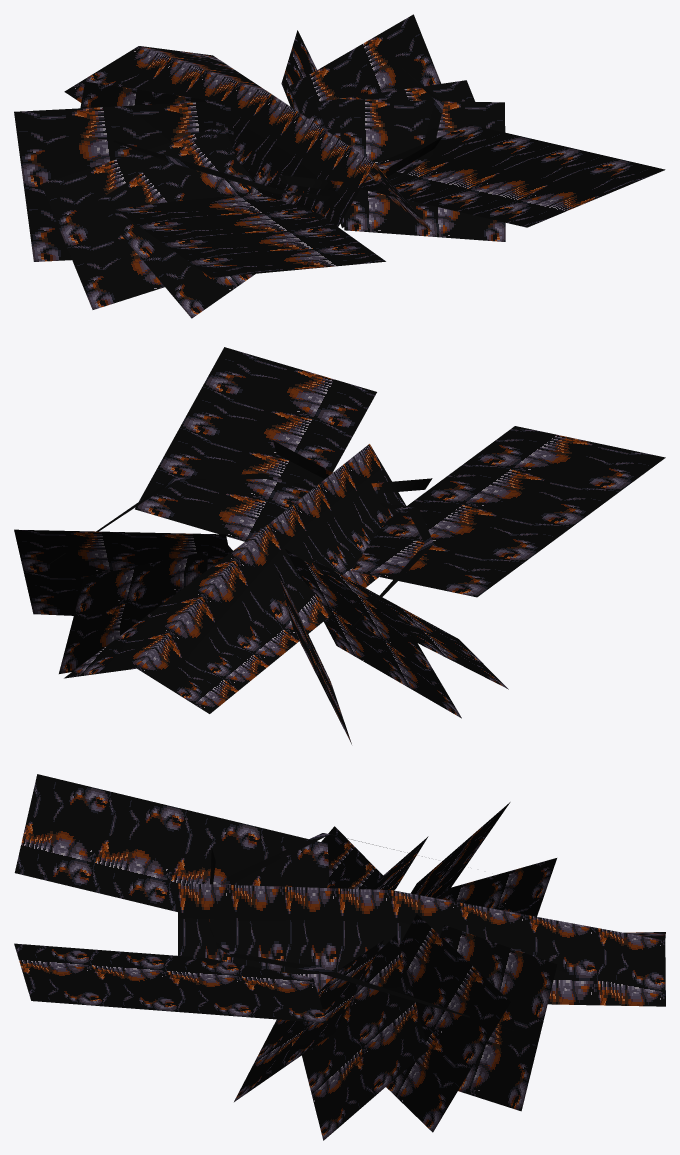
The model's file is 2114_fish44.gltf.
The picture shows the model from 3 angles, top to bottom: view 1: azimuth 30°, elevation 25°; view 2: azimuth 150°, elevation 25°; view 3: azimuth 270°, elevation 25°; orthographic projection. The views are drawn at different scales.
Visible parts, largest first — view 1: 2114_fish44; view 2: 2114_fish44; view 3: 2114_fish44.
Boxes of the visible parts, bbox=[...] form: 2114_fish44: bbox=[14, 14, 665, 318]; 2114_fish44: bbox=[14, 347, 665, 744]; 2114_fish44: bbox=[14, 774, 665, 1140].
Bounding box in the file's own units: 0.5857 × 0.1855 × 0.7109.
1 material, 1 textured.
